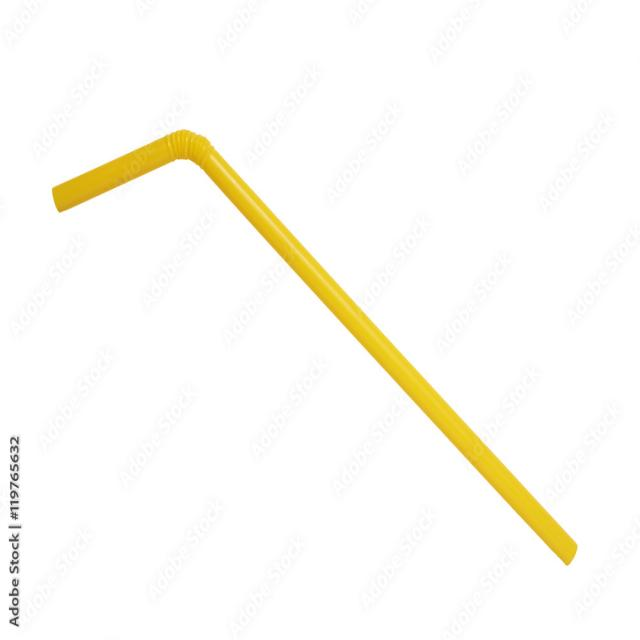plastic: (43, 70, 590, 601)
